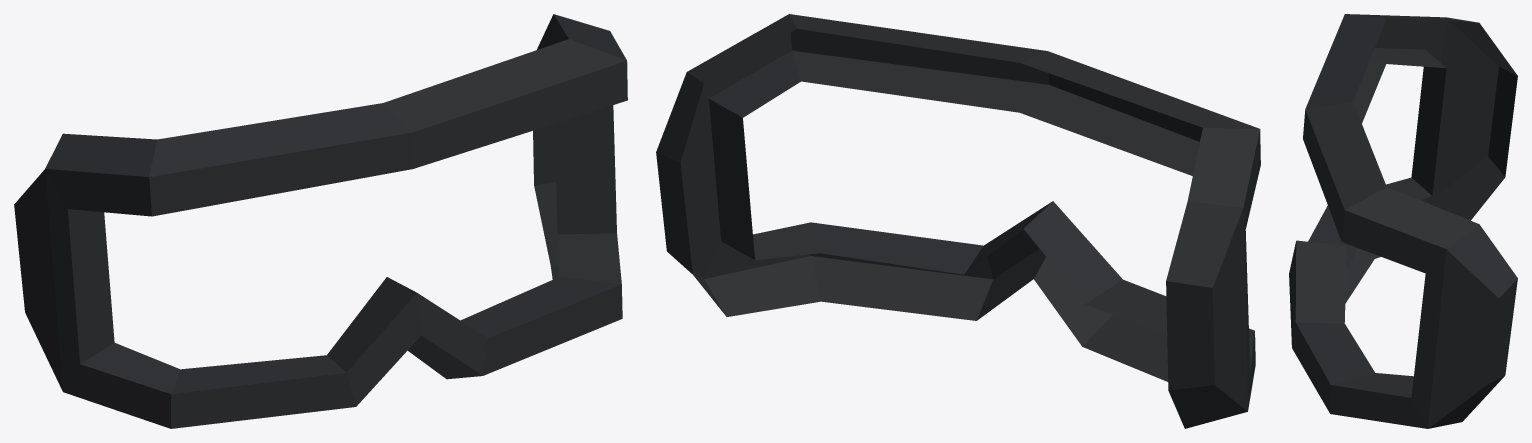
Rendered from SM_Chr_Attach_Goggles_01.fbx.
3 views of the same model, side by side, from view 1: azimuth 30°, elevation 25°; view 2: azimuth 150°, elevation 25°; view 3: azimuth 270°, elevation 25° (orthographic). The views are drawn at different scales.
Visible parts, largest first — view 1: SM_Chr_Attach_Goggles_01; view 2: SM_Chr_Attach_Goggles_01; view 3: SM_Chr_Attach_Goggles_01.
Boxes of the visible parts, x1,y1,x2,y2 form: SM_Chr_Attach_Goggles_01: [14, 14, 627, 428]; SM_Chr_Attach_Goggles_01: [656, 14, 1260, 428]; SM_Chr_Attach_Goggles_01: [1289, 14, 1517, 428].
Bounding box in the file's own units: 24.05 × 11.48 × 10.04.
